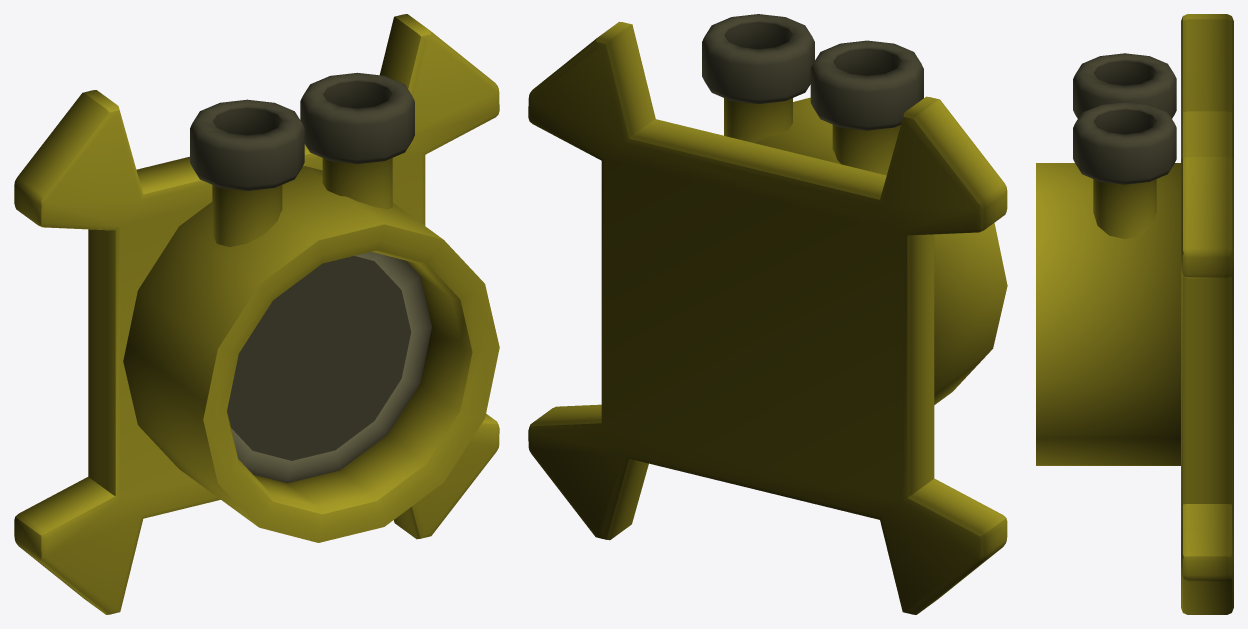
The model's file is Procesor_Cooling_lvl_08_V04.fbx.
The picture shows the model from 3 angles, left to right: view 1: azimuth 30°, elevation 25°; view 2: azimuth 150°, elevation 25°; view 3: azimuth 270°, elevation 25°; orthographic projection. The views are drawn at different scales.
Visible parts, largest first — view 1: Procesor_Cooling_lvl_08; view 2: Procesor_Cooling_lvl_08; view 3: Procesor_Cooling_lvl_08.
Part boxes in pixels (left/top/right/bottom): Procesor_Cooling_lvl_08: left=14, top=14, right=499, bottom=614; Procesor_Cooling_lvl_08: left=528, top=14, right=1007, bottom=614; Procesor_Cooling_lvl_08: left=1036, top=14, right=1233, bottom=614.
Size of the model in its own units: 44.66 by 46.75 by 18.29.
